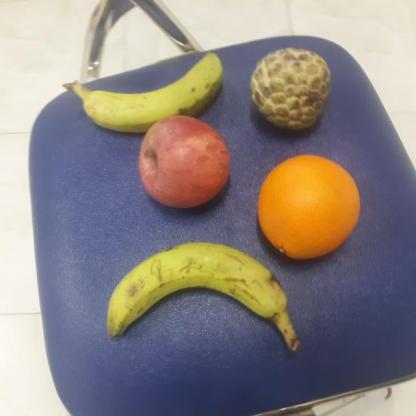annona: (248, 46, 335, 134)
apple: (136, 113, 234, 209)
banana: (103, 239, 290, 343), (80, 47, 229, 132)
orange: (254, 151, 364, 261)
